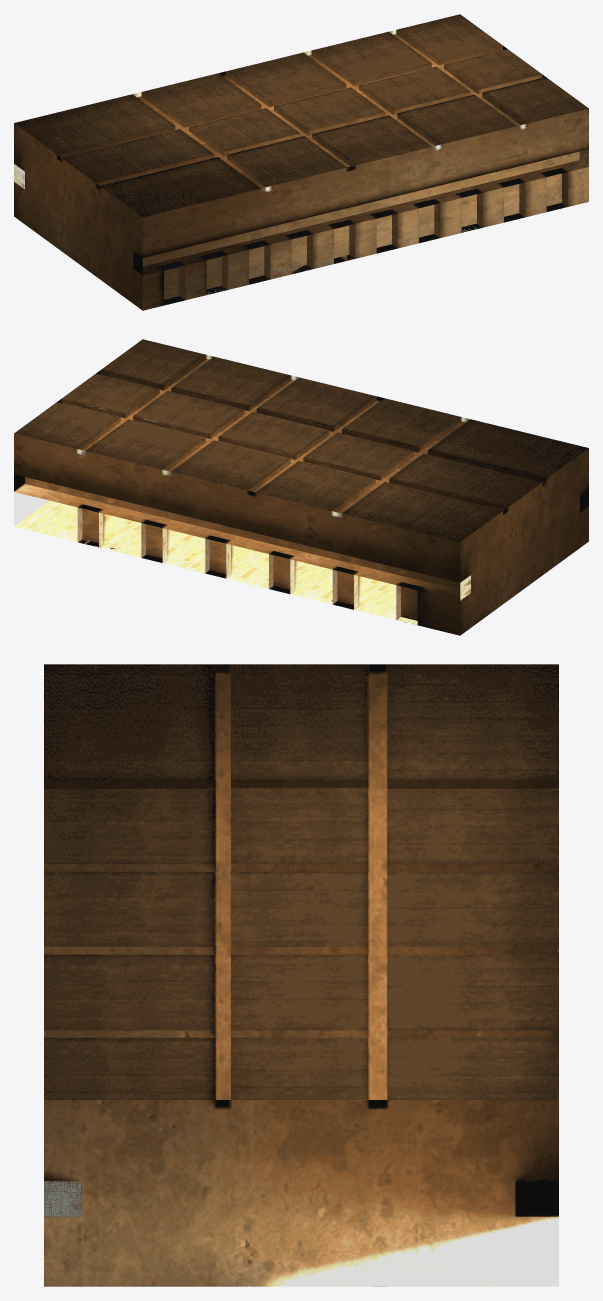
Rendered from map.gltf.
3 views of the same model, one above another, from view 1: azimuth 30°, elevation 25°; view 2: azimuth 150°, elevation 25°; view 3: azimuth 270°, elevation 25° (orthographic). The views are drawn at different scales.
Parts seen in each view (by area): view 1: Cube_0; view 2: Cube_0; view 3: Cube_0.
Part boxes in pixels (x1,y1,x2,y2): Cube_0: [14, 14, 588, 310]; Cube_0: [14, 339, 588, 635]; Cube_0: [44, 664, 558, 1286].
Bounding box in the file's own units: 10 × 2 × 5.
Materials: 3 (3 with a texture image).
